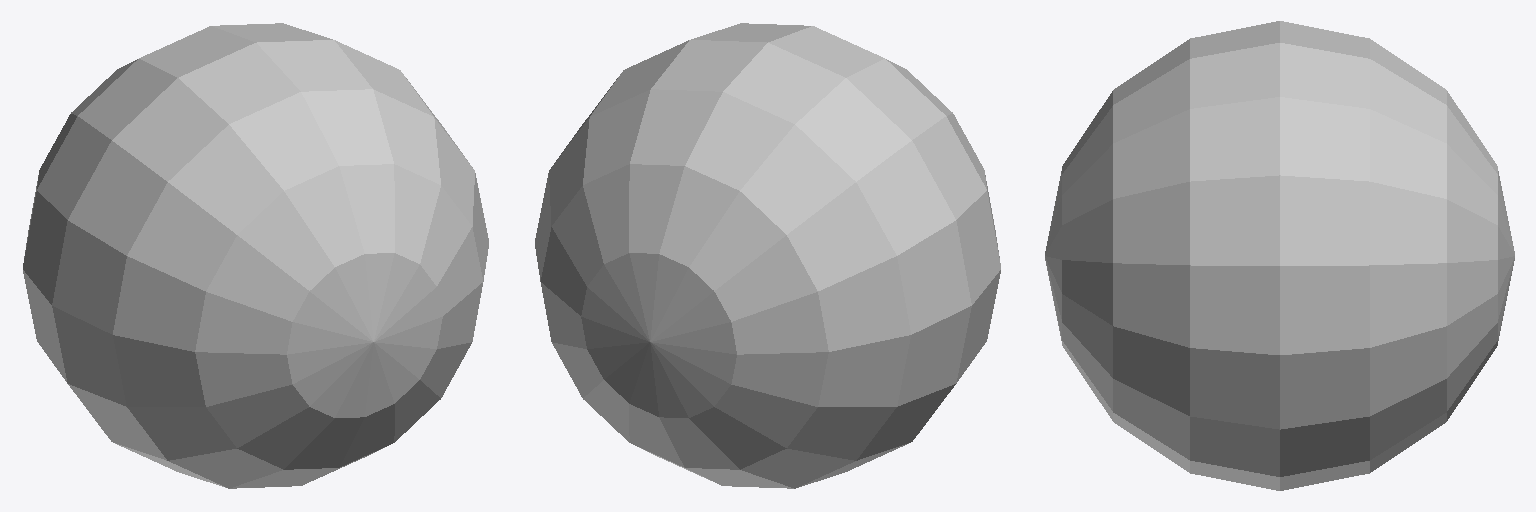
Rendered from planet.obj.
3 renders of one model, left to right at view 1: azimuth 30°, elevation 25°; view 2: azimuth 150°, elevation 25°; view 3: azimuth 270°, elevation 25°, orthographic.
Visible parts, largest first — view 1: low_球体; view 2: low_球体; view 3: low_球体.
Part boxes in pixels (bbox=[...]): low_球体: bbox=[23, 23, 488, 488]; low_球体: bbox=[535, 23, 1000, 488]; low_球体: bbox=[1045, 21, 1514, 490].
Bounding box in the file's own units: 1.74 × 1.74 × 1.74.